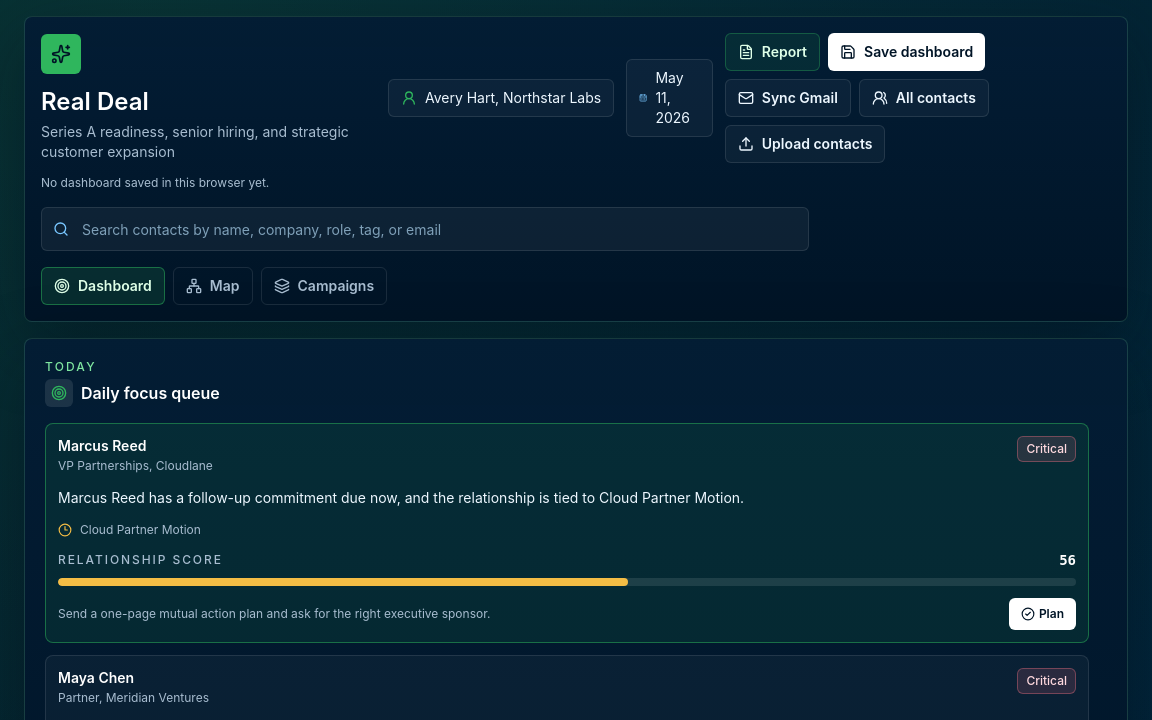
Scenario: FounderWorkspace › marks a recommended touch as planned
Click the button "Plan" at (1042, 614), box left=1009, top=598, right=1076, bottom=630
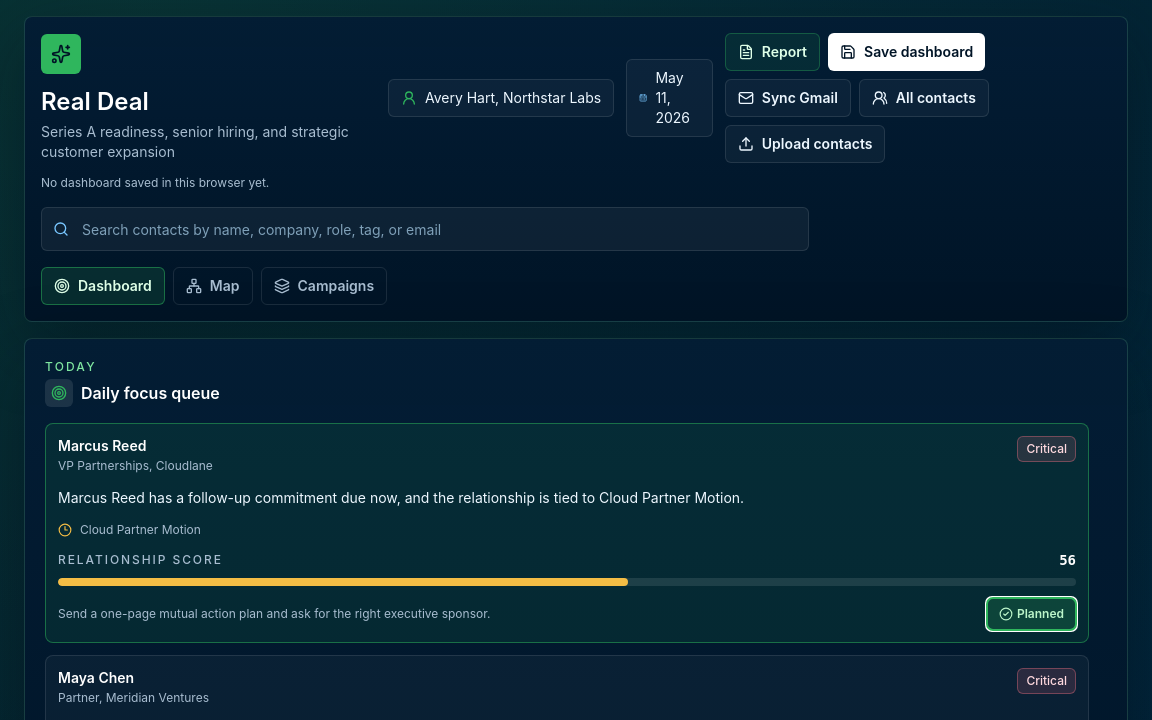
Expected: the button "Planned" is shown, left=987, top=598, right=1076, bottom=630
